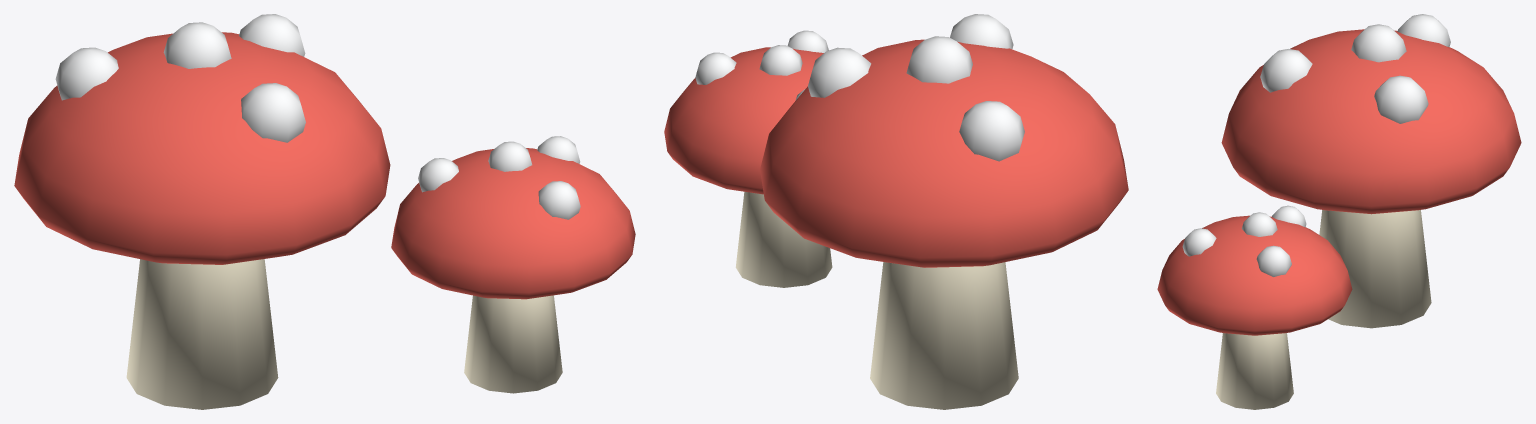
The model's file is prop_toadstool_pair.glb.
3 views of the same model, side by side, from view 1: azimuth 30°, elevation 25°; view 2: azimuth 150°, elevation 25°; view 3: azimuth 270°, elevation 25° (orthographic). The views are drawn at different scales.
Visible parts, largest first — view 1: Mesh_Toadstools; view 2: Mesh_Toadstools; view 3: Mesh_Toadstools.
Part boxes in pixels (x1,y1,x2,y2): Mesh_Toadstools: (14, 14, 635, 409); Mesh_Toadstools: (664, 14, 1128, 409); Mesh_Toadstools: (1157, 14, 1521, 409).
Size of the model in its own units: 1.39 by 0.9146 by 1.09.
